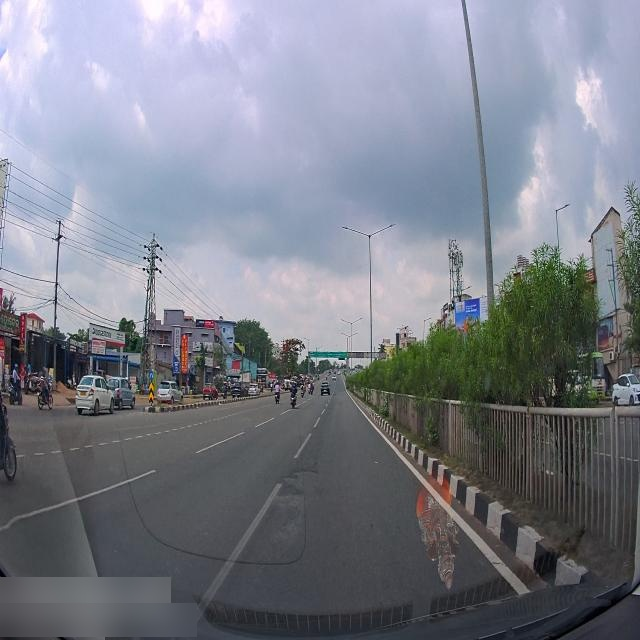pothole: (286, 466, 316, 499)
